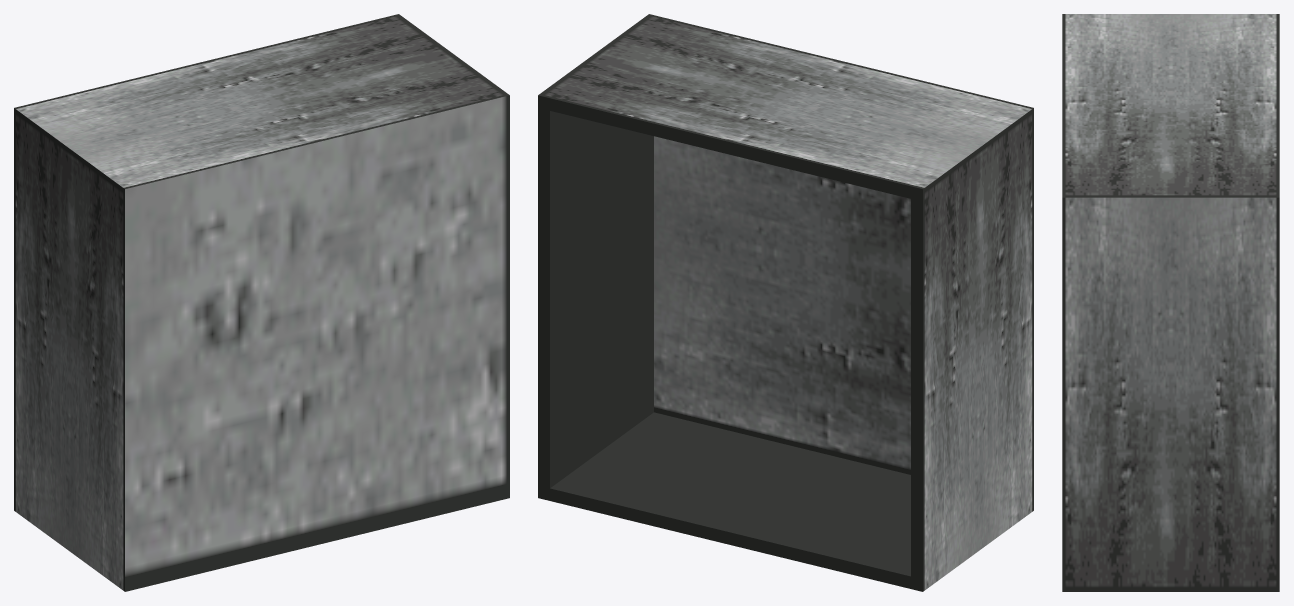
The model's file is basicbuildingAllWallb_wtf.obj.
3 renders of one model, left to right at view 1: azimuth 30°, elevation 25°; view 2: azimuth 150°, elevation 25°; view 3: azimuth 270°, elevation 25°, orthographic. The views are drawn at different scales.
Visible parts, largest first — view 1: group3; view 2: group3; view 3: group3.
Part boxes in pixels (x1,y1,x2,y2): group3: [14, 14, 509, 591]; group3: [538, 14, 1033, 591]; group3: [1062, 14, 1279, 591].
Bounding box in the file's own units: 660 × 660 × 330.
